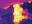Hotspot: (13, 4, 29, 23)
